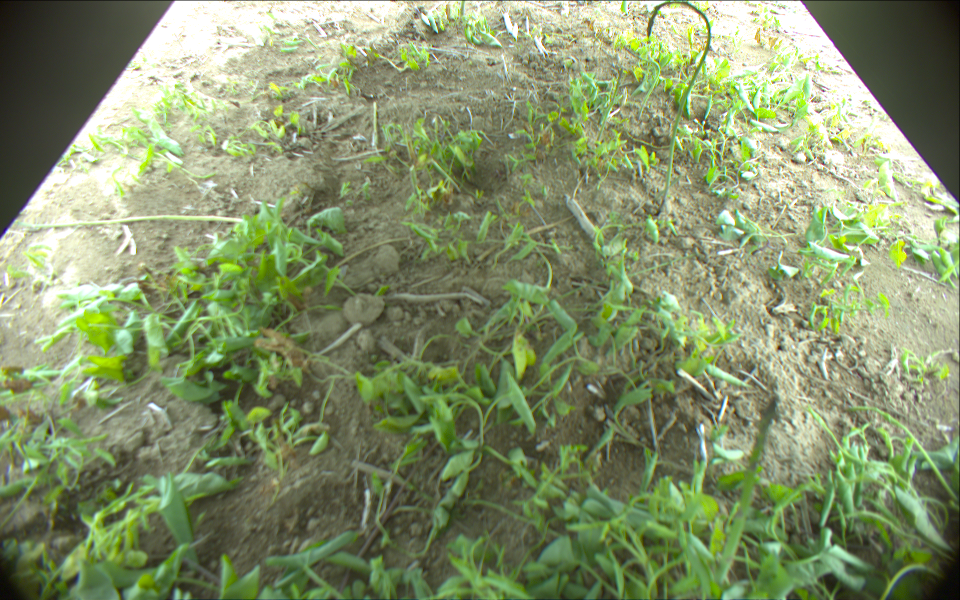aspa: (646, 1, 712, 218), (712, 396, 781, 582), (12, 216, 249, 229), (370, 99, 379, 147)
